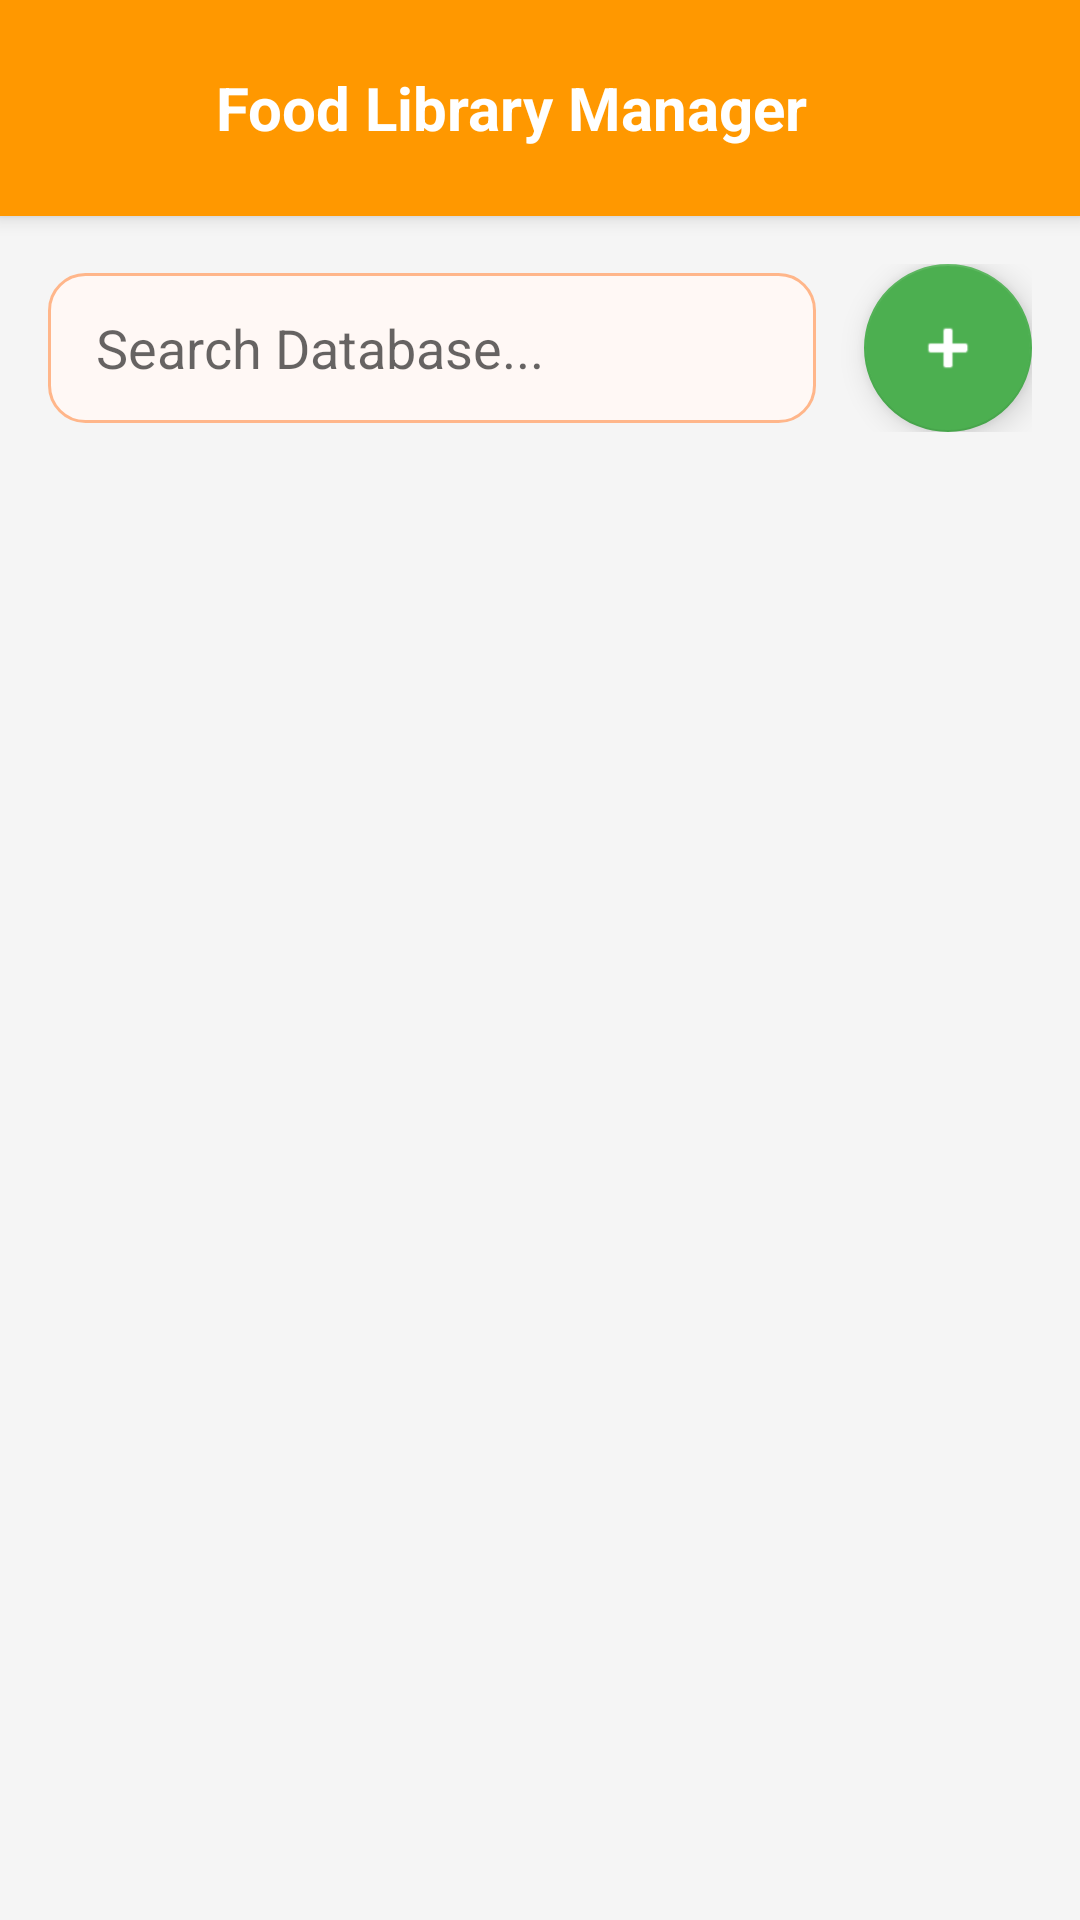

Icons on this 1080px×1920px Android screen, each with its box as (x1=x1, y1=y1, x2=x2, y2=y2):
Add Food: (x1=864, y1=264, x2=1032, y2=432)
